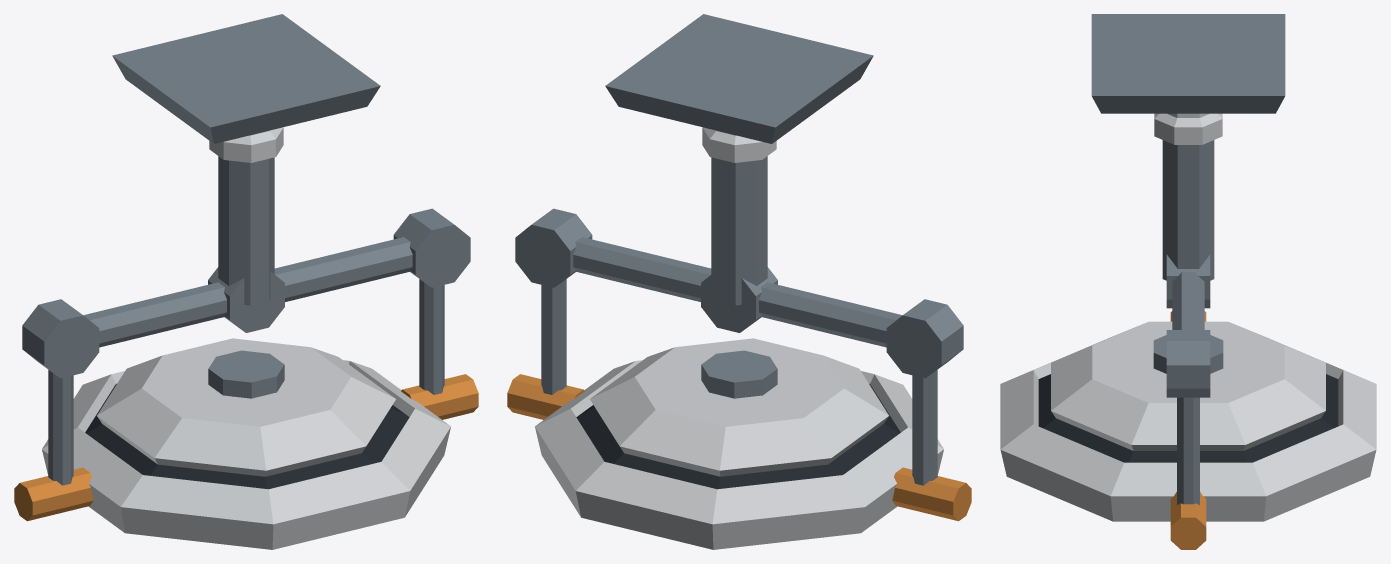
File: surgical-light-7628dd.glb
3 views of the same model, side by side, from view 1: azimuth 30°, elevation 25°; view 2: azimuth 150°, elevation 25°; view 3: azimuth 270°, elevation 25° (orthographic).
Visible parts, largest first — view 1: head, arm, ceiling-boss; view 2: head, arm, ceiling-boss; view 3: head, ceiling-boss, arm.
Part boxes in pixels (bbox=[...]): head: bbox=[14, 338, 478, 549]; arm: bbox=[22, 156, 470, 485]; ceiling-boss: bbox=[112, 14, 380, 162]; head: bbox=[507, 338, 971, 549]; arm: bbox=[515, 156, 963, 485]; ceiling-boss: bbox=[605, 14, 873, 162]; head: bbox=[1000, 311, 1376, 549]; ceiling-boss: bbox=[1091, 14, 1285, 144]; arm: bbox=[1162, 140, 1214, 504].
Bounding box in the file's own units: 1.05 × 1.03 × 0.7761.
